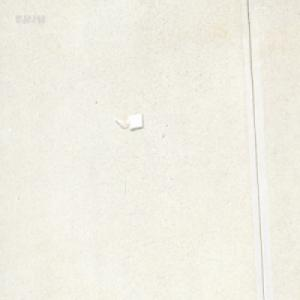LuggageTag: (112, 112, 143, 130)
